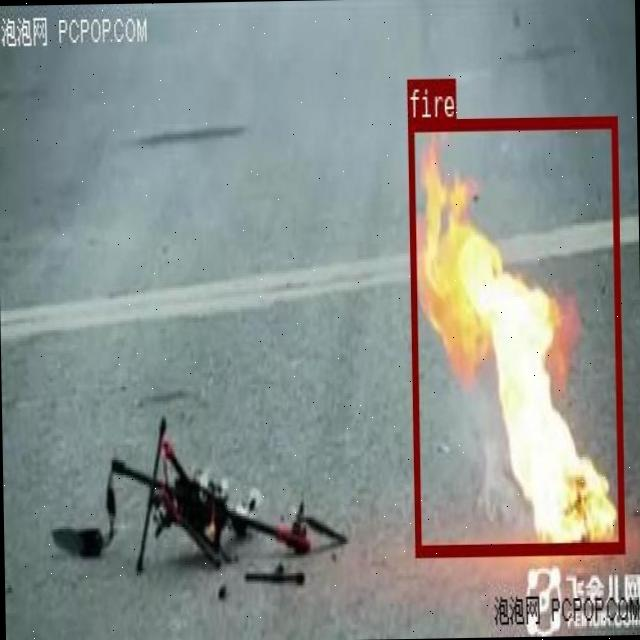fire: (406, 116, 624, 554)
